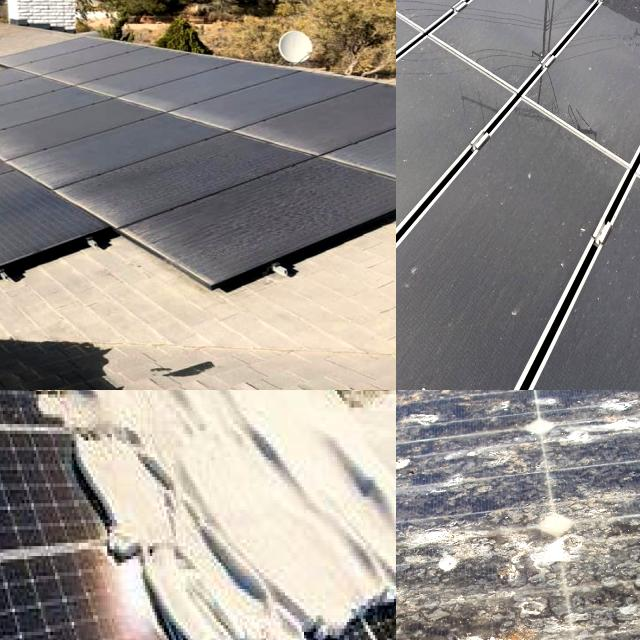bird: (440, 447, 640, 582), (396, 511, 457, 640), (396, 607, 569, 640)
dust: (139, 75, 396, 182), (94, 168, 306, 296), (490, 145, 598, 320), (4, 96, 112, 230), (396, 23, 465, 211), (0, 88, 106, 207), (565, 0, 640, 116), (494, 0, 640, 59), (396, 0, 490, 89), (396, 270, 460, 390), (396, 148, 441, 309), (0, 187, 64, 288), (0, 112, 57, 196), (0, 65, 152, 95), (396, 7, 429, 133)
panel: (13, 390, 151, 530), (107, 534, 273, 640), (269, 586, 396, 640), (326, 509, 396, 589), (0, 390, 86, 449)
